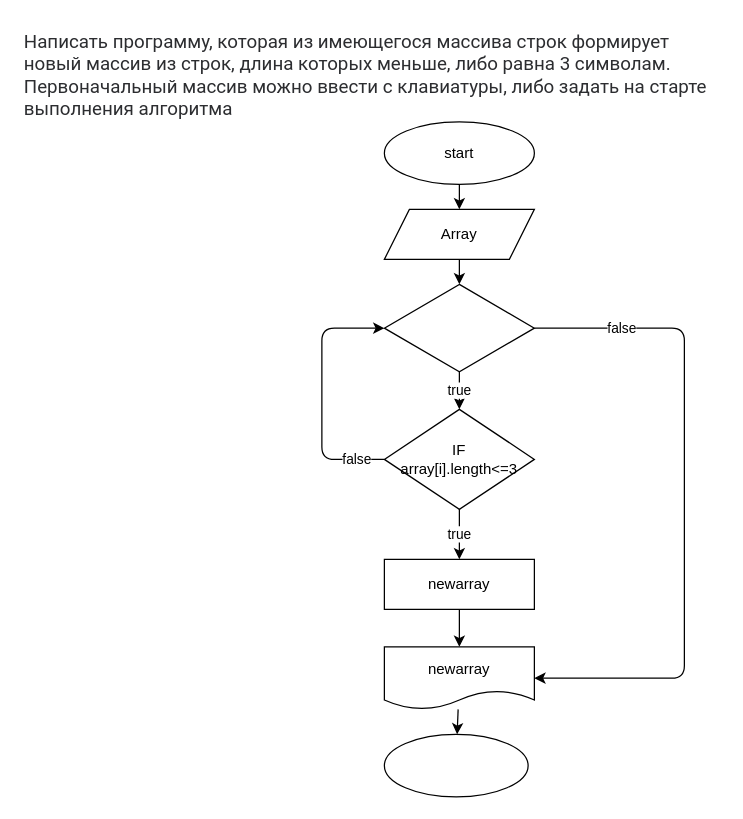
This 743x819 diagram has some shape labels left out. The shapes that lost their labels are listed below. From the top down, each one's centre as x and y in pixels, then its label:
point 458,327: FOR i<array.Lenght
point 455,765: end
